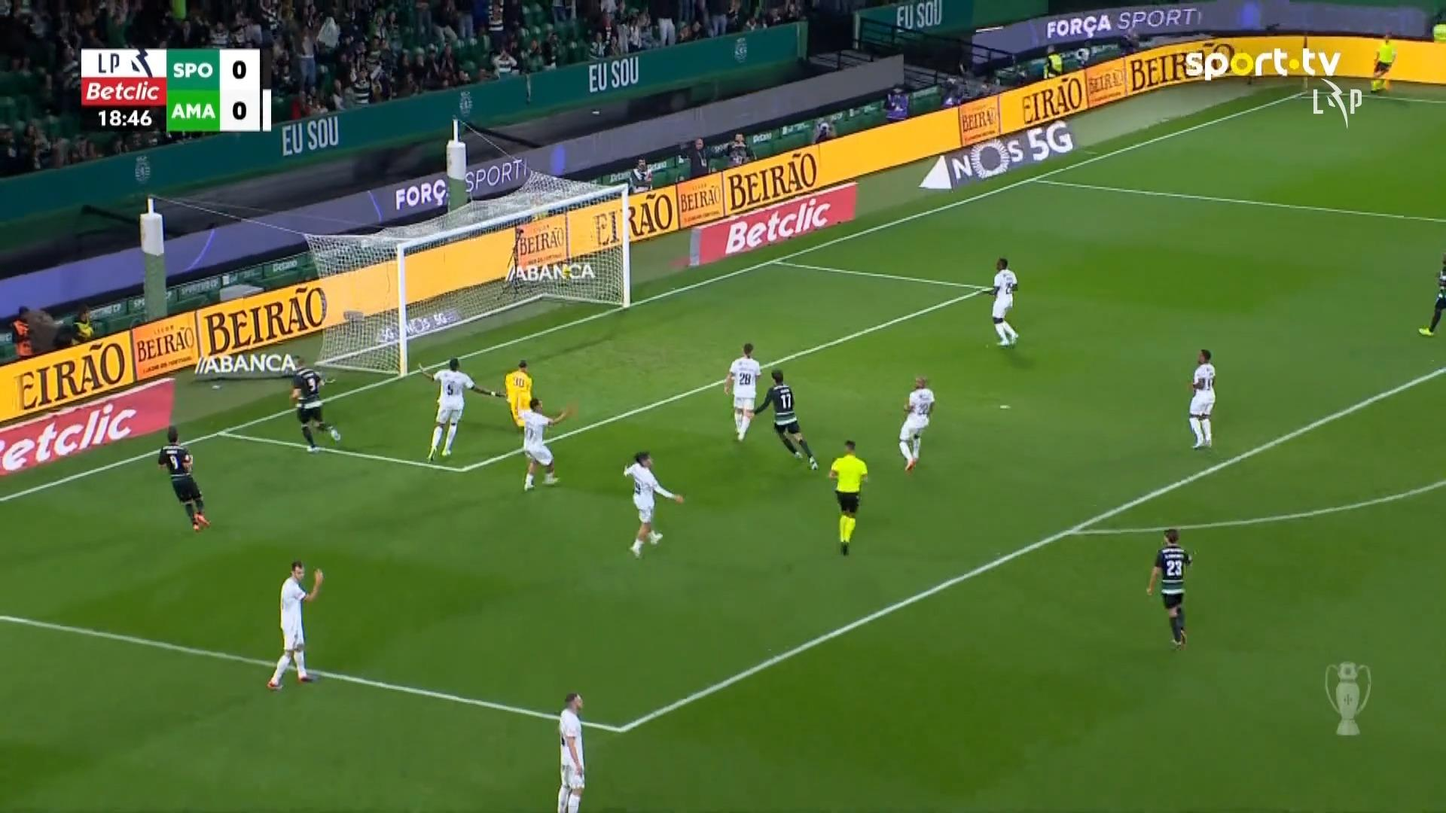ball: (562, 267, 571, 276)
goalkeeper: (504, 359, 533, 429)
player: (416, 356, 502, 461), (266, 559, 323, 690), (750, 368, 819, 470), (622, 449, 684, 559), (1146, 527, 1192, 650), (157, 425, 209, 531), (516, 397, 572, 491), (288, 355, 341, 452), (897, 374, 935, 471), (724, 342, 761, 441), (556, 691, 586, 811), (1187, 348, 1216, 449), (989, 257, 1019, 347), (1417, 254, 1444, 336)
referee: (827, 439, 868, 556), (1369, 33, 1396, 93)
